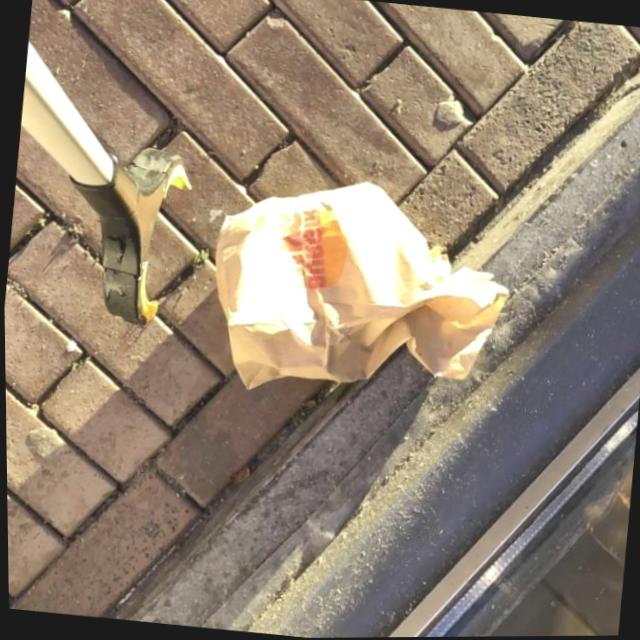Paper: (195, 162, 522, 420)
